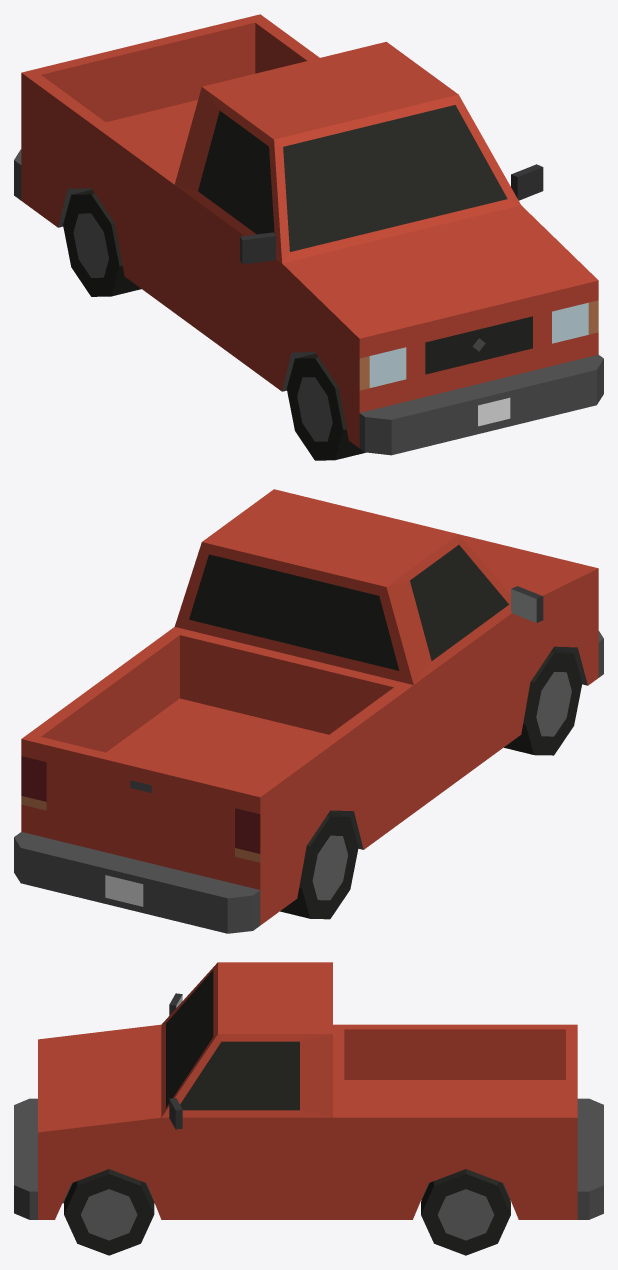
The model's file is Veh_Pickup_01_Red.obj.
The picture shows the model from 3 angles, top to bottom: view 1: azimuth 30°, elevation 25°; view 2: azimuth 150°, elevation 25°; view 3: azimuth 270°, elevation 25°; orthographic projection. The views are drawn at different scales.
Size of the model in its own units: 1.34 by 1.12 by 2.85.
